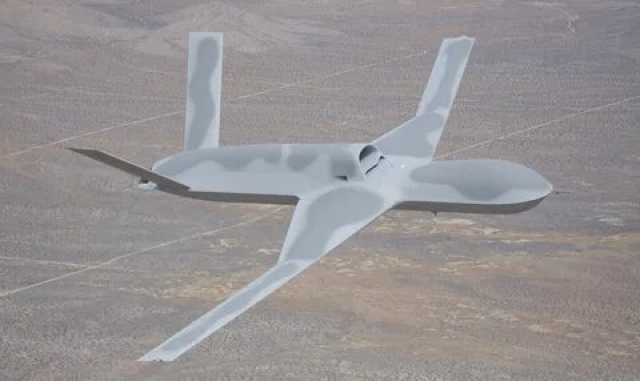military drone: (63, 31, 553, 361)
